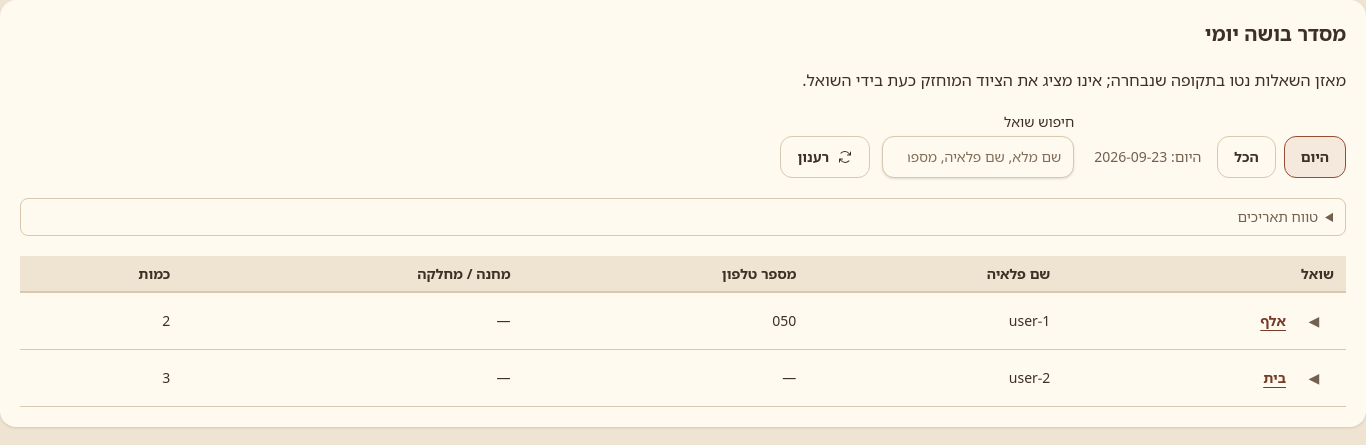
period summary view › advances all history on visibility resume and keeps its lower bound internal
expect the button "אלף" is shown: met, box [1260, 301, 1286, 341]
Click the button "הכל" at coordinates (1246, 157), box [1217, 136, 1276, 178]
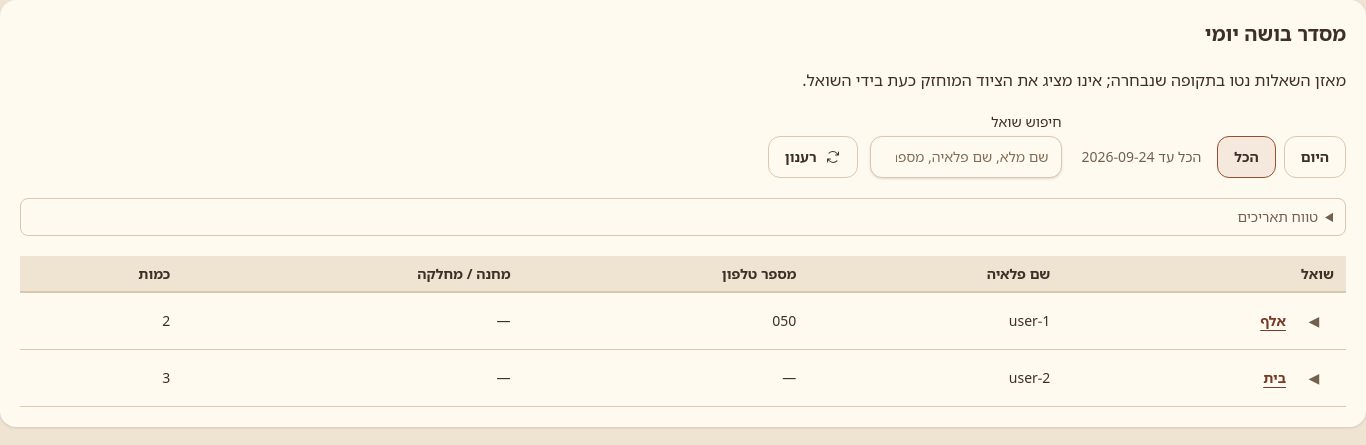
expect the button "אלף" is shown: met, box [1260, 301, 1286, 341]
expect the text "הכל עד" reads "הכל עד 2026-09-24": met, box [1074, 147, 1209, 167]
